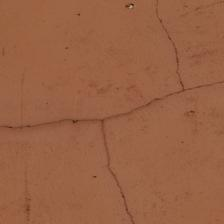Crack: (3, 79, 224, 133), (98, 122, 138, 223), (153, 1, 190, 90)
